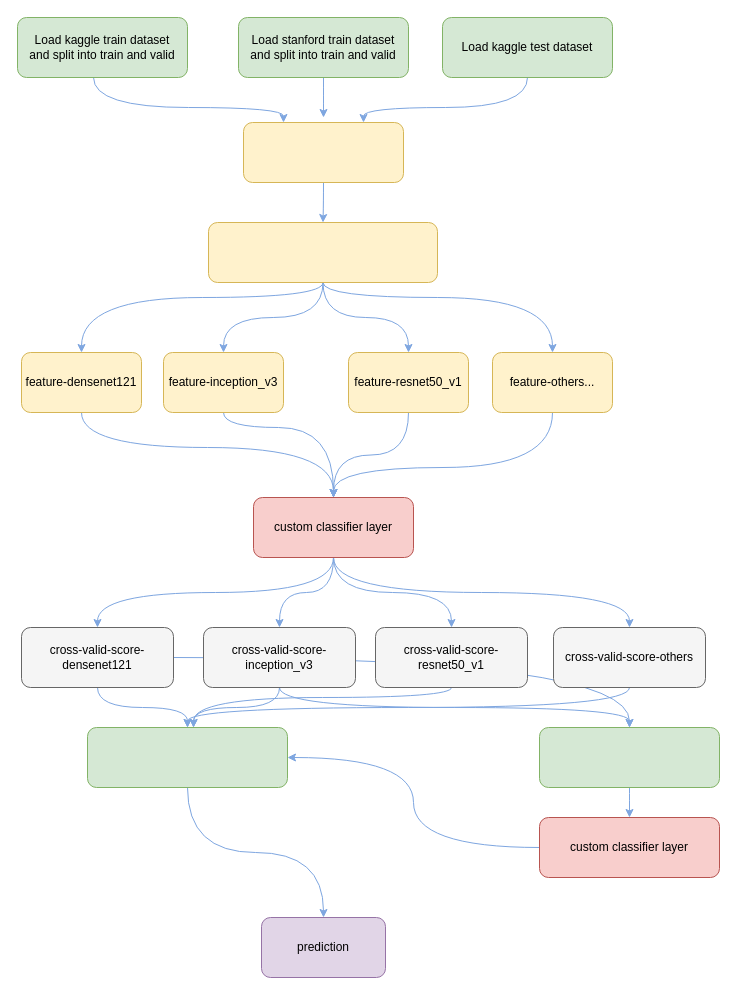
Some shapes in this 737 by 995 pixel diagram are drawn without their labels. Here are the shapes that lost their labels. From the top down, the centre of each, then its label:
the point at 323,152: load pre-trained models
the point at 323,252: get classifier from pre-trained model
the point at 187,757: model bagging with linear model
the point at 629,757: combine with 2 highest score model features
